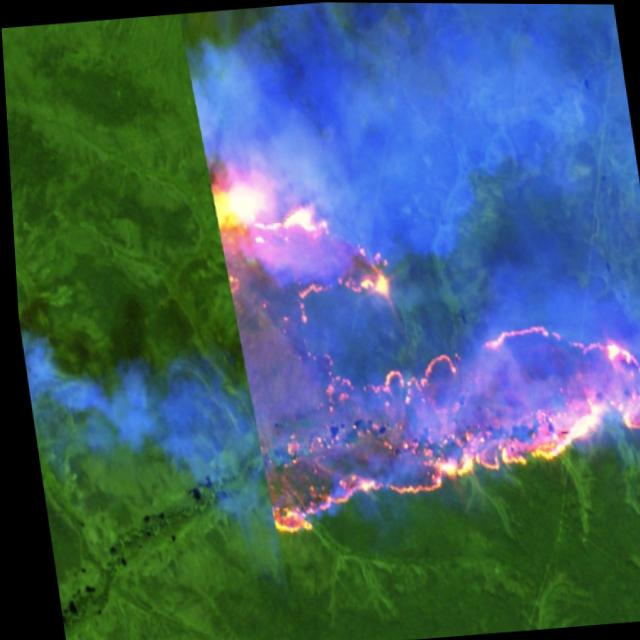fire: (195, 105, 640, 545)
